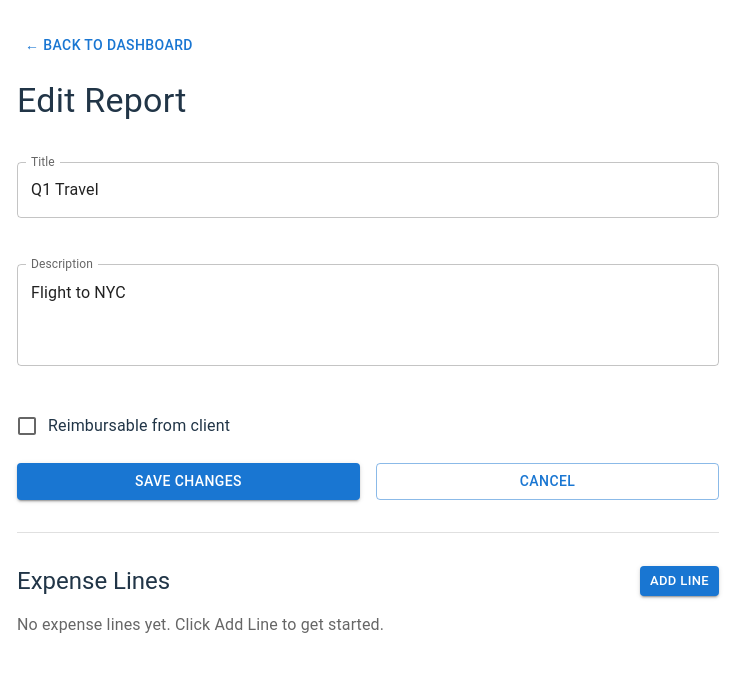
Scenario: EditReportPage › shows an error alert and does not navigate on API failure
Step 1. Click the button "Save Changes" → (188, 482), box [17,463,360,500]
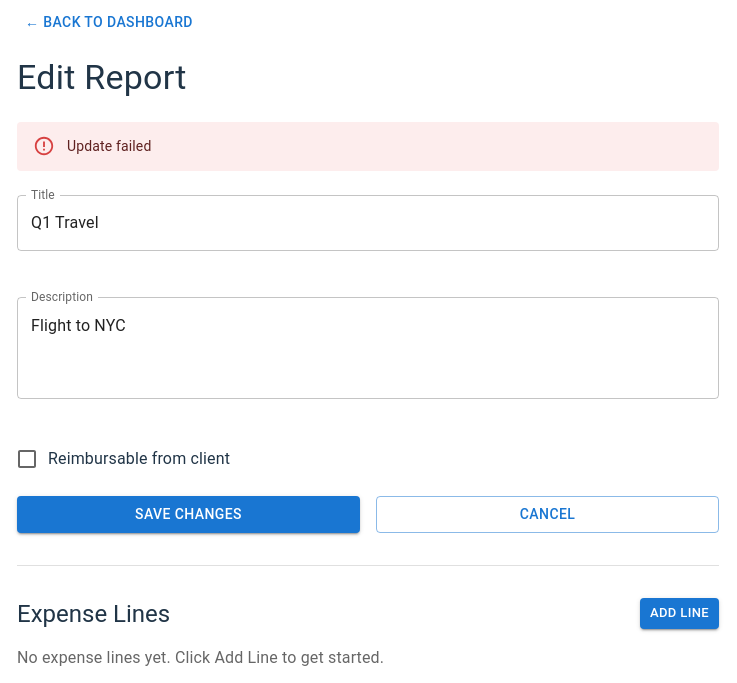
Now the message "Update failed" is shown, box [17,122,719,170]
Now the text "Update failed" is shown, box [67,138,152,154]
